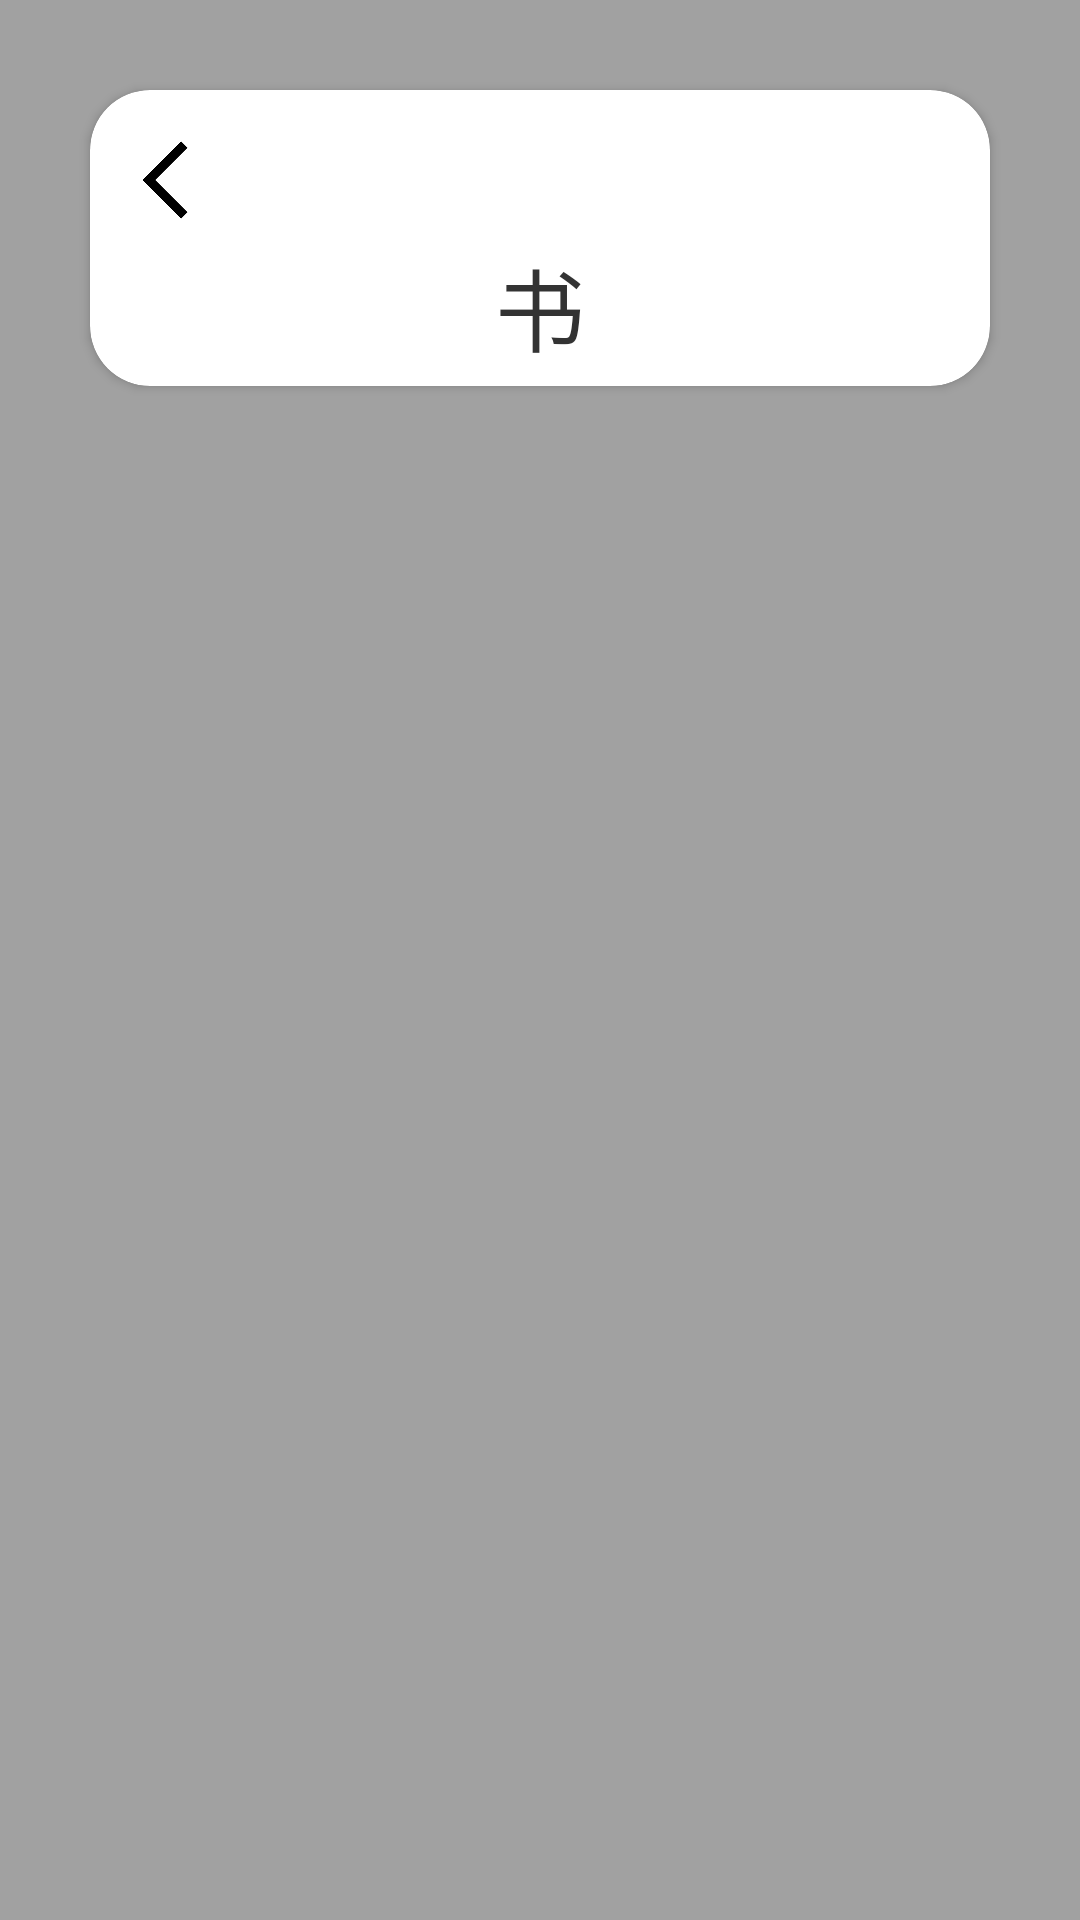

Icons on this 1080w x 1920h Android screen, each with the point to tap as (x,y):
back: (165,180)
